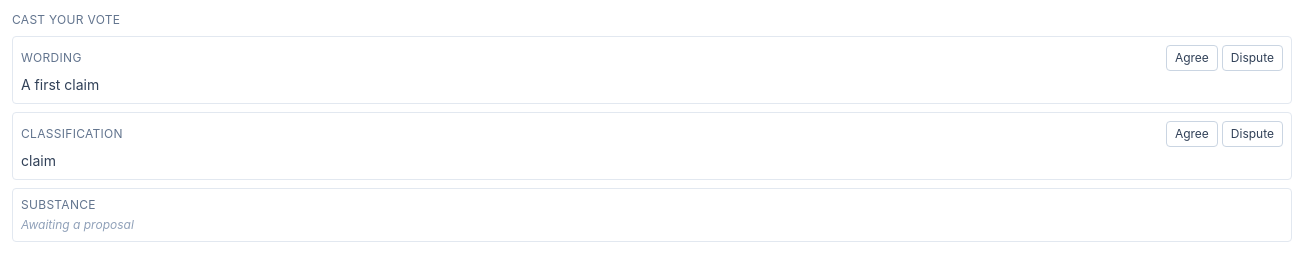
Scenario: <ParticipantVoteButtons> — in-flight visual › flips data-vote-state to "in-flight" on the clicked row after click
Click the button with test id "participant-vote-button-agree" in the row of "Classification" at (1192, 134), box [1166, 121, 1218, 147]
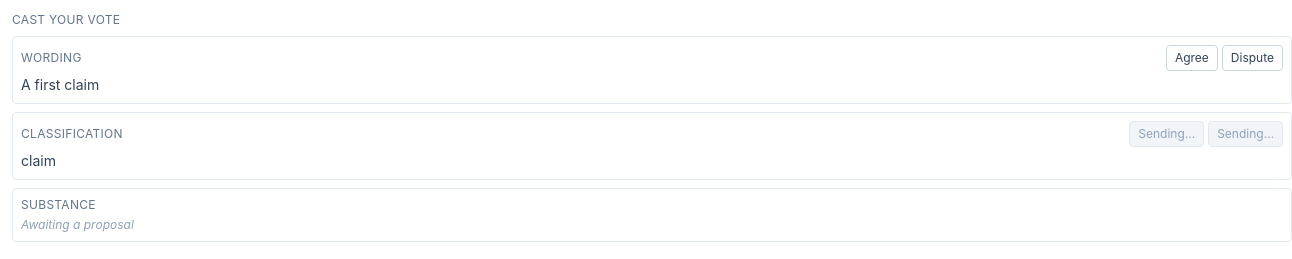
expect the 2nd button with test id "participant-vote-button-agree" is disabled: met, box [1129, 121, 1204, 147]
